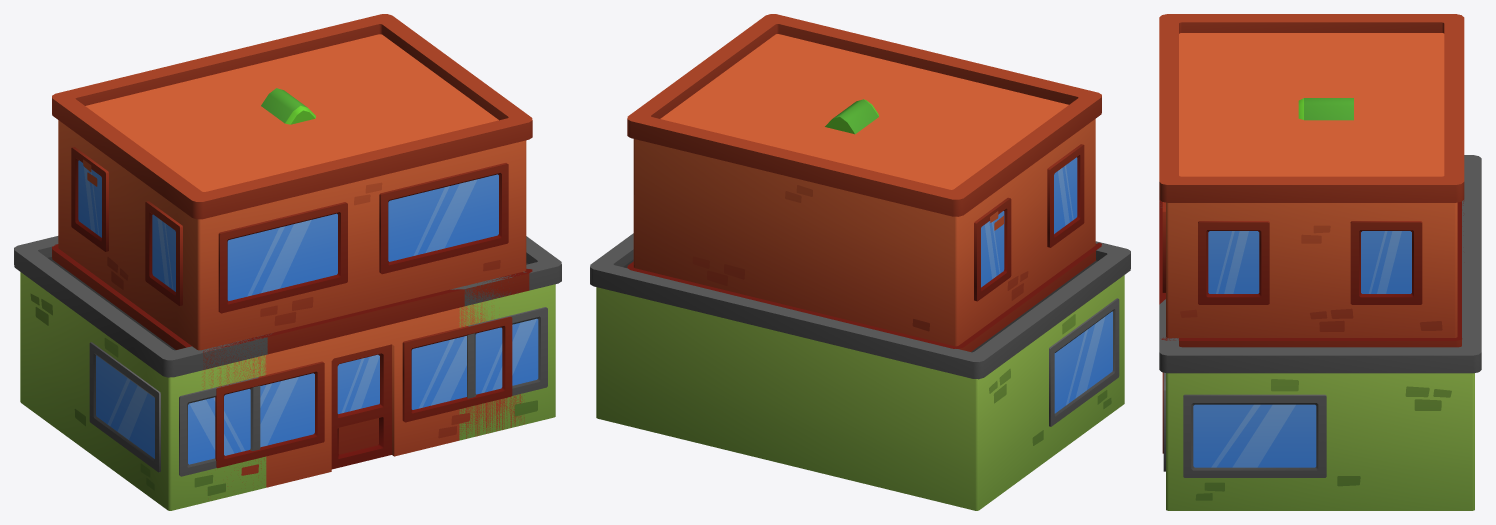
The model's file is Buildings.fbx.
3 renders of one model, left to right at view 1: azimuth 30°, elevation 25°; view 2: azimuth 150°, elevation 25°; view 3: azimuth 270°, elevation 25°, orthographic. The views are drawn at different scales.
Parts seen in each view (by area): view 1: Customer Build 1, Upgrade Build; view 2: Customer Build 1, Upgrade Build; view 3: Customer Build 1, Upgrade Build.
Part boxes in pixels (bbox=[...]): Customer Build 1: bbox=[52, 14, 532, 496]; Upgrade Build: bbox=[14, 88, 561, 510]; Customer Build 1: bbox=[627, 14, 1101, 351]; Upgrade Build: bbox=[590, 99, 1130, 510]; Customer Build 1: bbox=[1159, 14, 1464, 453]; Upgrade Build: bbox=[1159, 98, 1481, 510].
Bounding box in the file's own units: 1360 × 1005 × 924.
